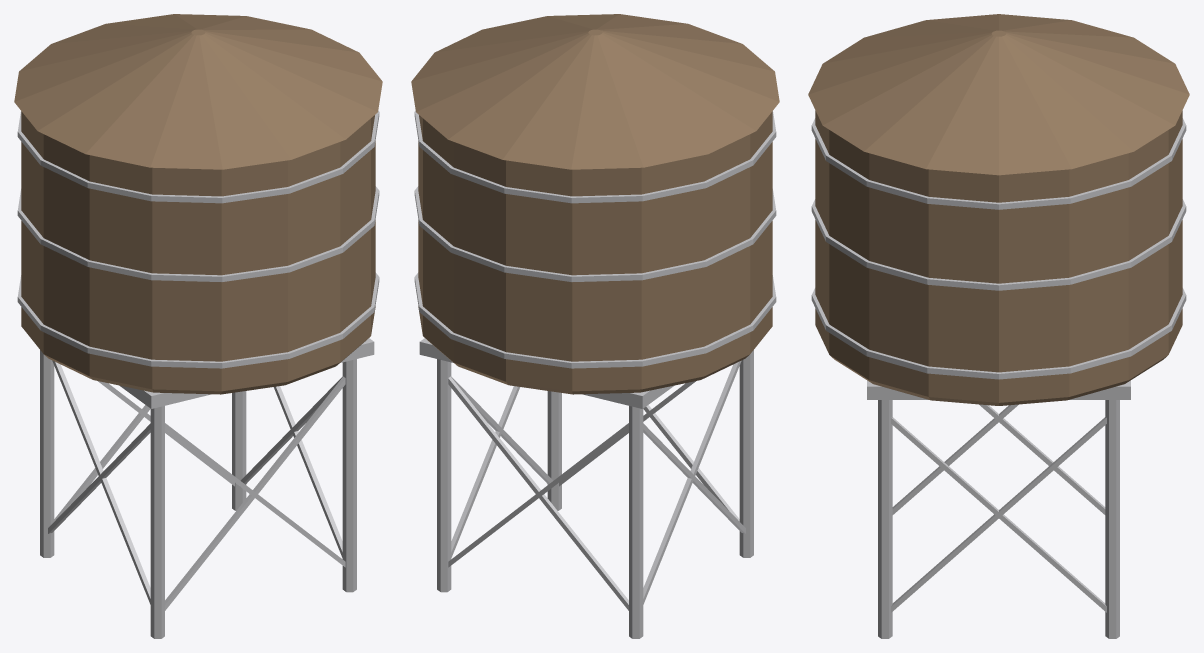
Rendered from roof_watertank.glb.
3 views of the same model, side by side, from view 1: azimuth 30°, elevation 25°; view 2: azimuth 150°, elevation 25°; view 3: azimuth 270°, elevation 25° (orthographic). The views are drawn at different scales.
Visible parts, largest first — view 1: roof_watertank; view 2: roof_watertank; view 3: roof_watertank.
Part boxes in pixels (x1=…): roof_watertank: x1=14, y1=14, x2=382, y2=638; roof_watertank: x1=411, y1=14, x2=779, y2=638; roof_watertank: x1=808, y1=14, x2=1189, y2=638.
Size of the model in its own units: 3.12 by 5 by 3.12.
